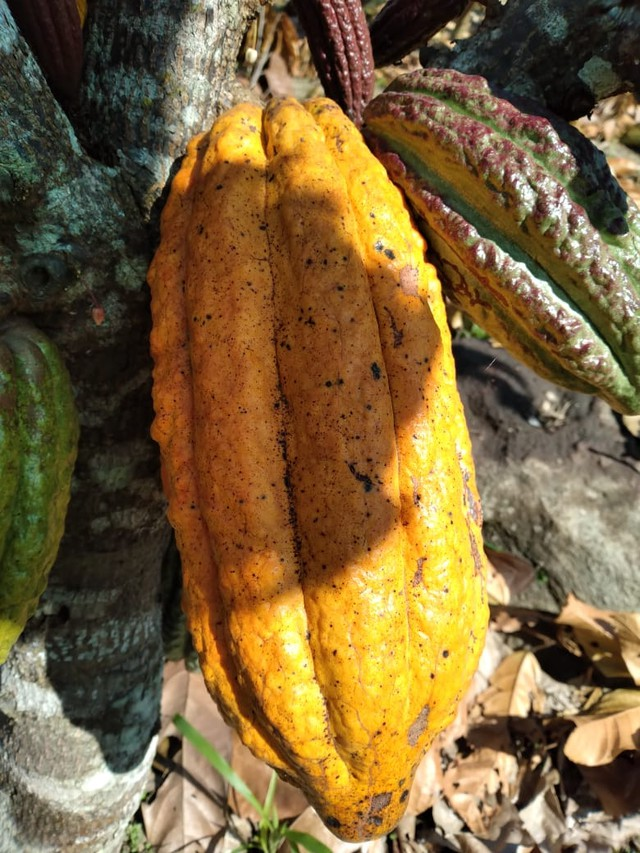Health: (139, 92, 507, 853)
